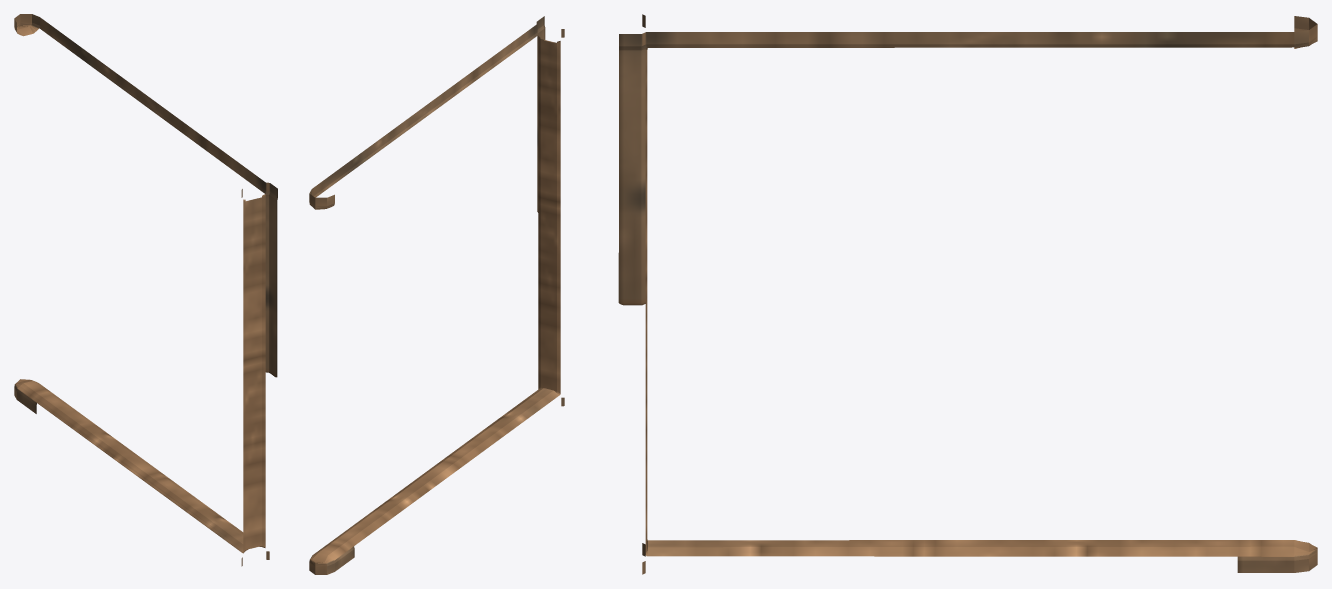
Rendered from mirror.obj.
3 views of the same model, side by side, from view 1: azimuth 30°, elevation 25°; view 2: azimuth 150°, elevation 25°; view 3: azimuth 270°, elevation 25° (orthographic). The views are drawn at different scales.
Bounding box in the file's own units: 0.0792 × 1 × 1.19.
